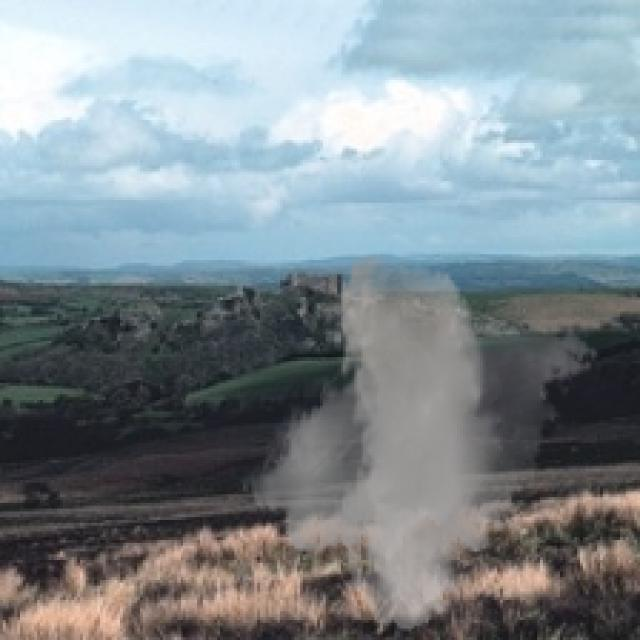Smoke: (240, 252, 600, 632)
